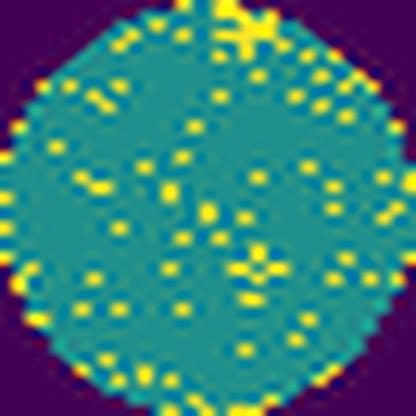Edge-Loc: (209, 0, 292, 70)
